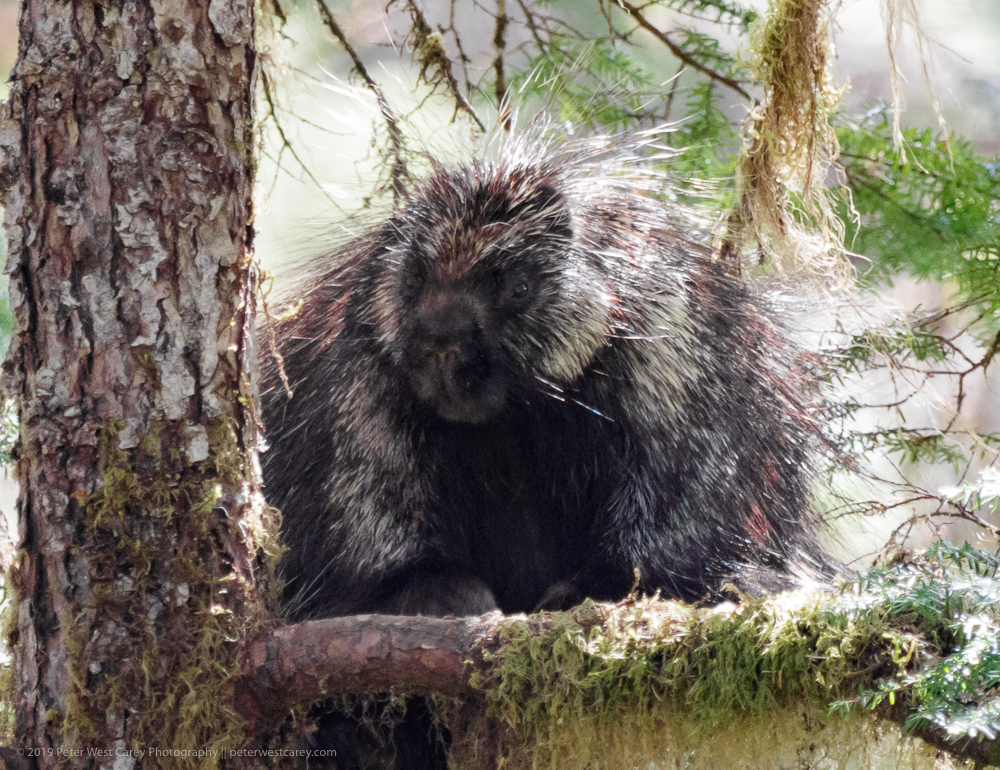porcupine: (231, 99, 821, 619)
